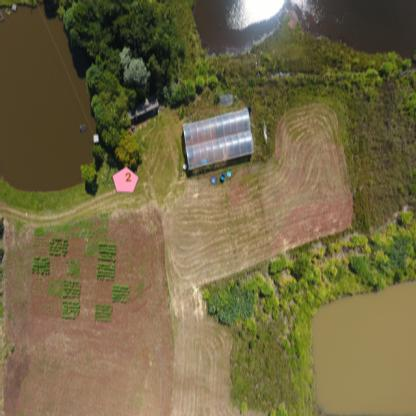2: (123, 172, 132, 184)
pentagon: (111, 165, 139, 194)
